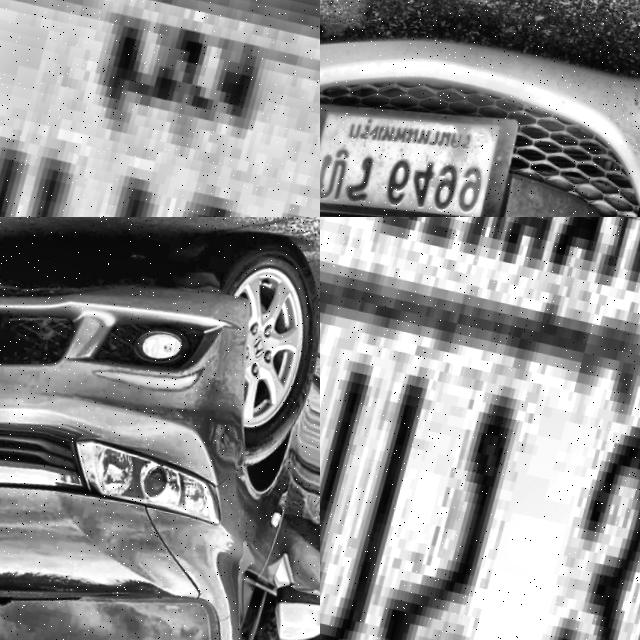license-plate: (320, 217, 640, 640), (0, 0, 320, 217), (320, 63, 540, 217)
